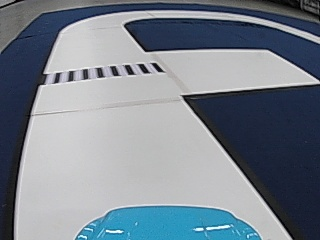CrossWalk: (46, 61, 164, 82)
